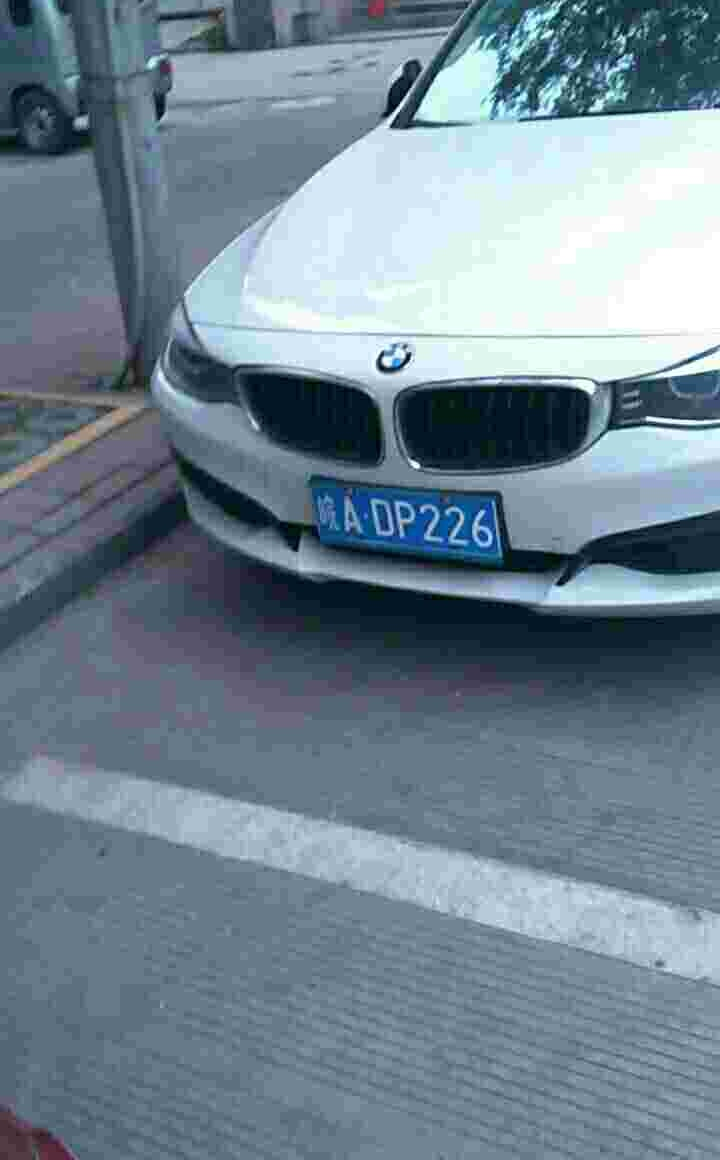license_plate: (309, 488, 503, 567)
